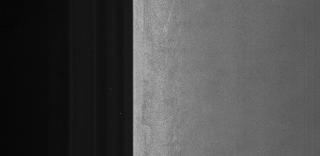silk spot: (156, 2, 192, 120)
